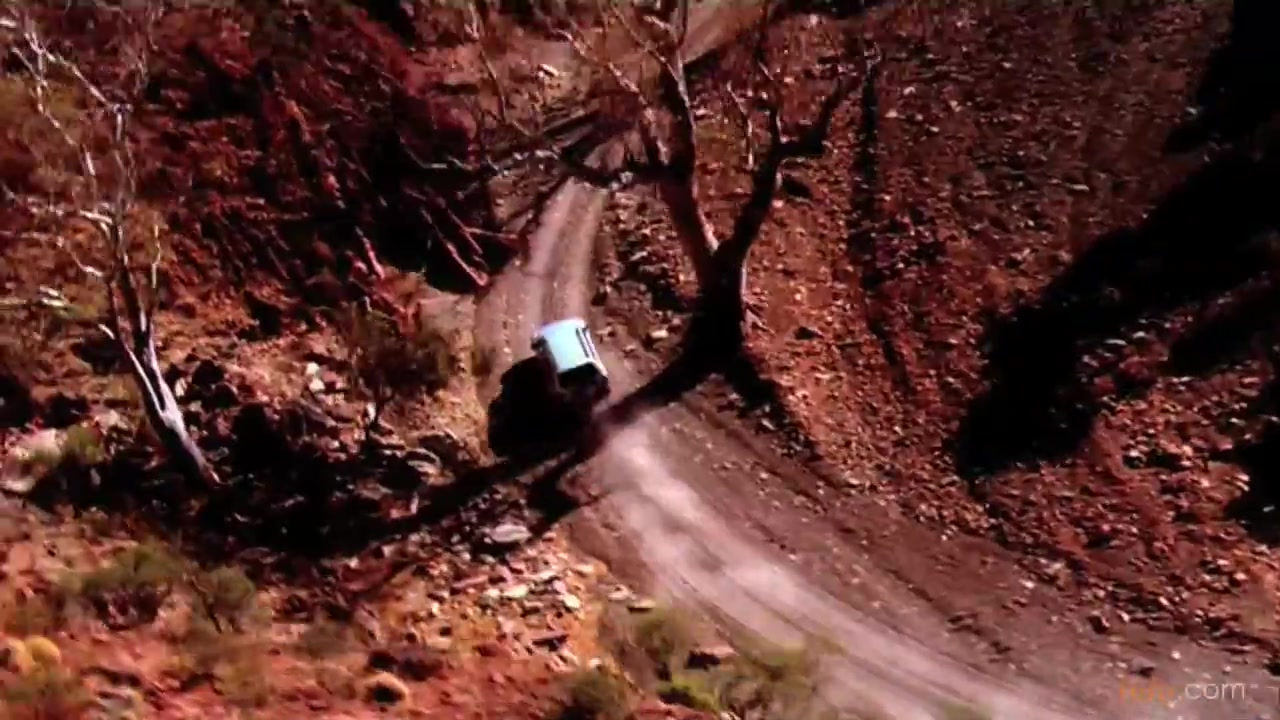car: (525, 312, 612, 411)
